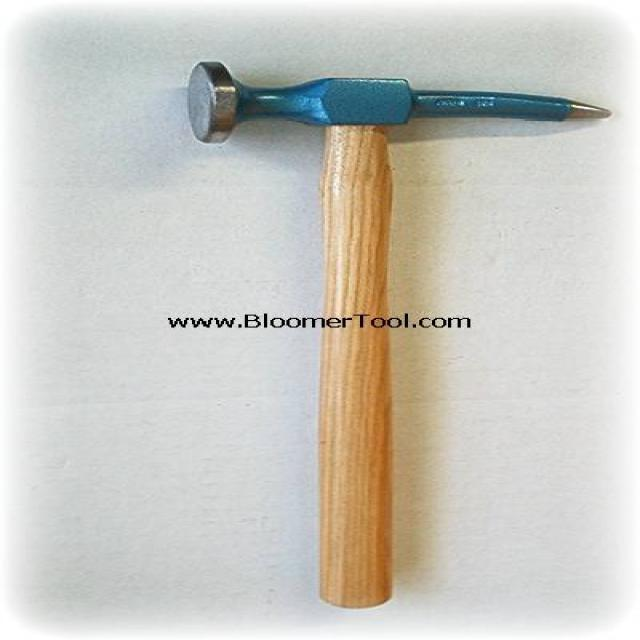hammer: (164, 56, 619, 610)
